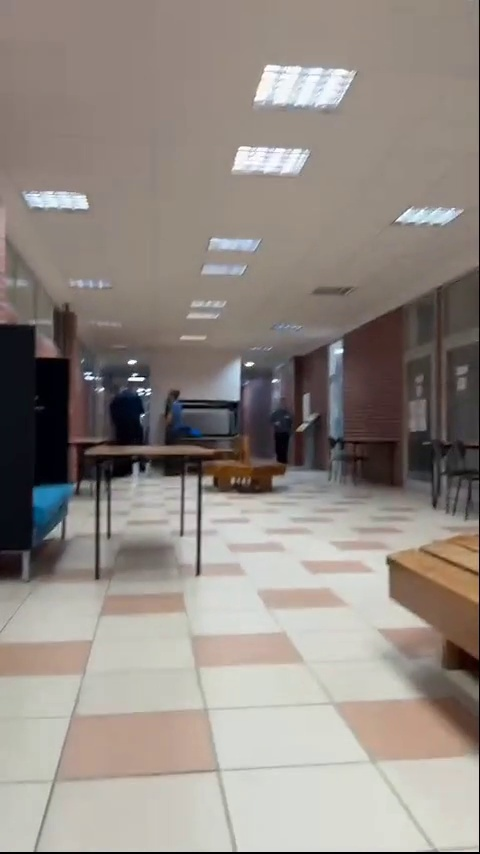no vest: (113, 381, 152, 445), (268, 384, 300, 461), (159, 388, 200, 443)
